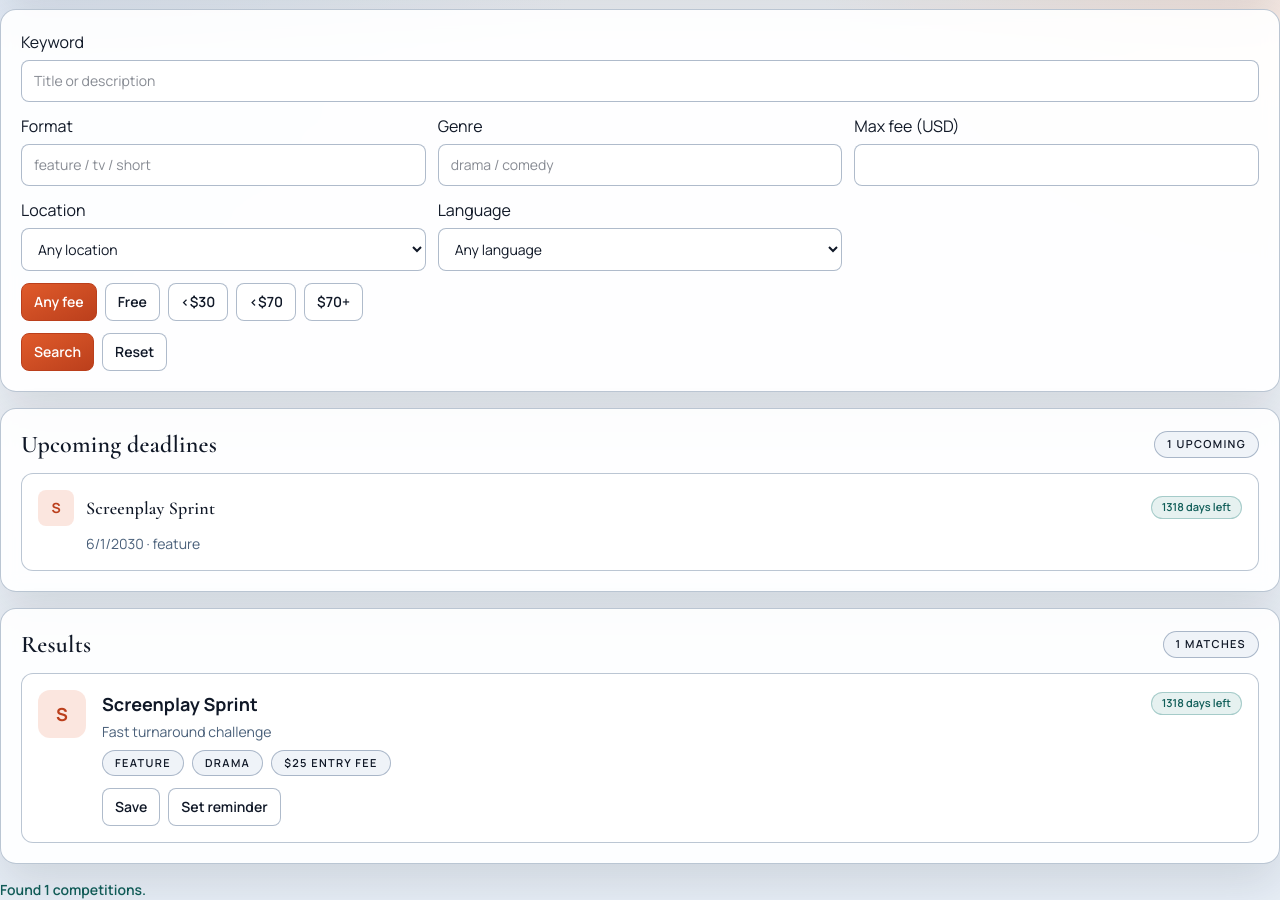
Scenario: CompetitionsPage › opens reminder modal, defaults target user, and submits reminder request
(page scrolled)
Check: the text "Found 1 competitions." is shown, box [0, 880, 146, 899]
Step 1. Click the button "Set reminder" → (224, 807), box [168, 788, 281, 826]
(page scrolled)
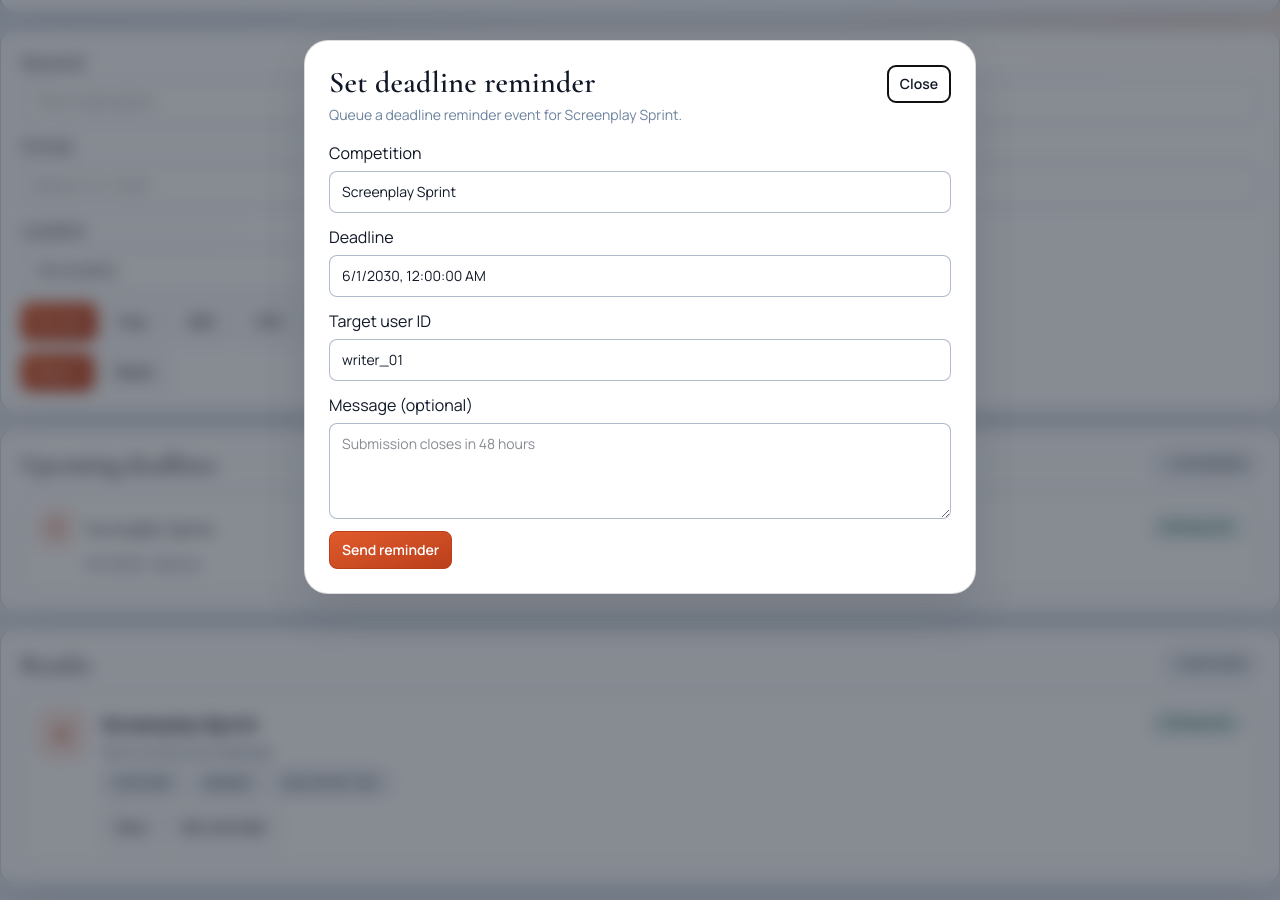
Check: the field labelled "Target user ID" holds "writer_01", box [329, 339, 951, 381]
Step 2. Type "Submission closes soon" into the text box labelled "Message (optional)" → (640, 471), box [329, 423, 951, 519]
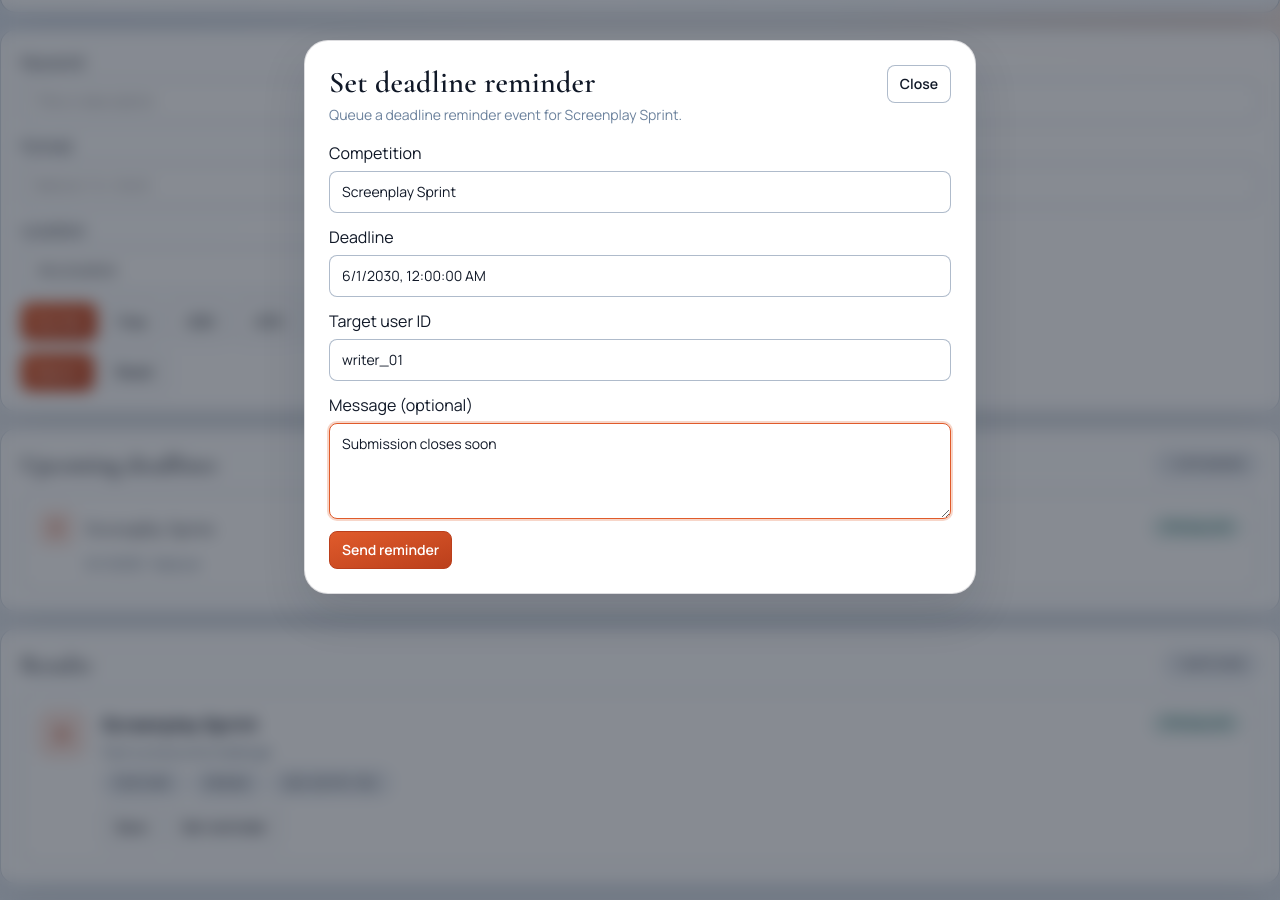
Step 3. Click the button "Send reminder" → (391, 550), box [329, 531, 452, 569]
(page scrolled)
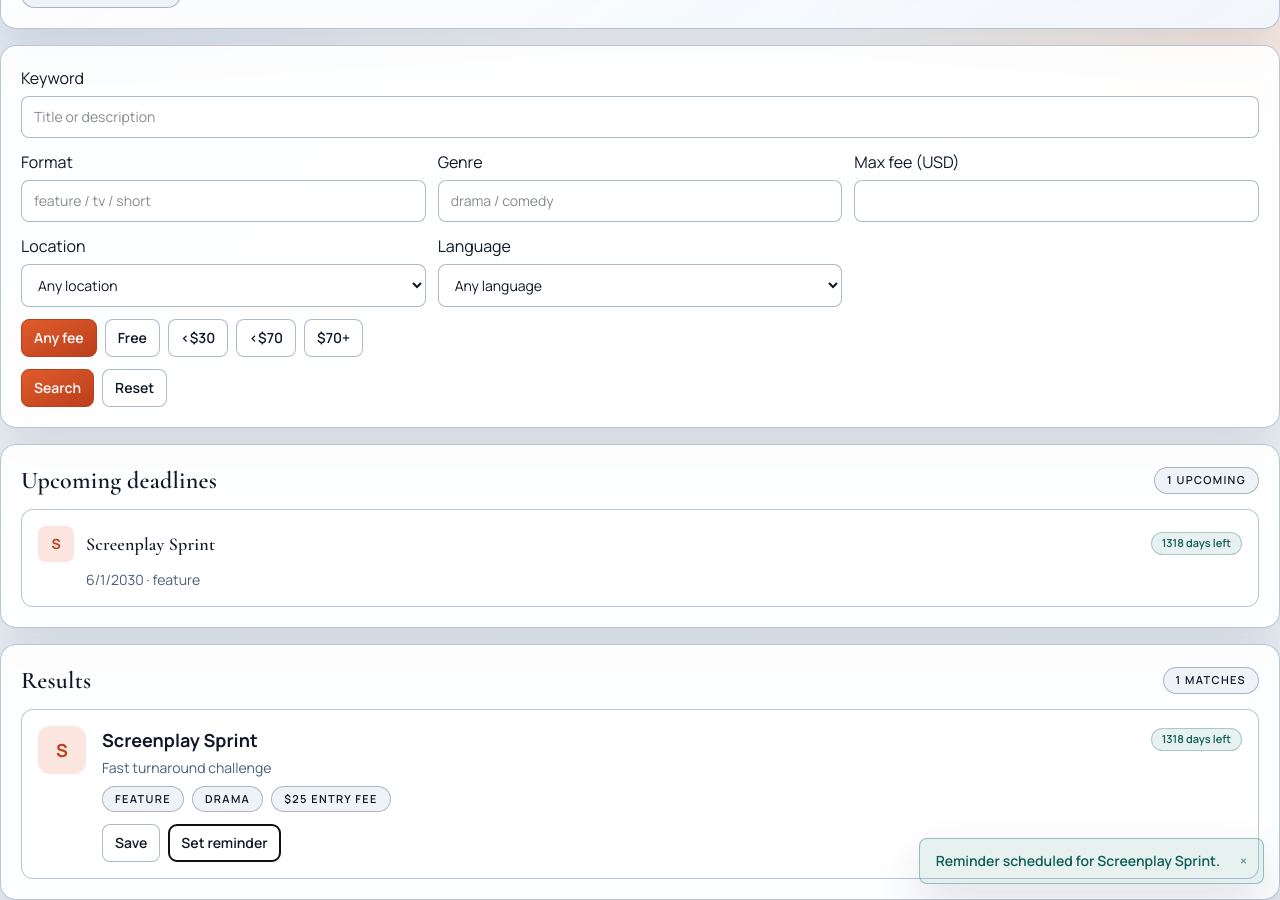
Check: the text "Reminder scheduled for Screenplay Sprint." is shown, box [936, 851, 1220, 871]
